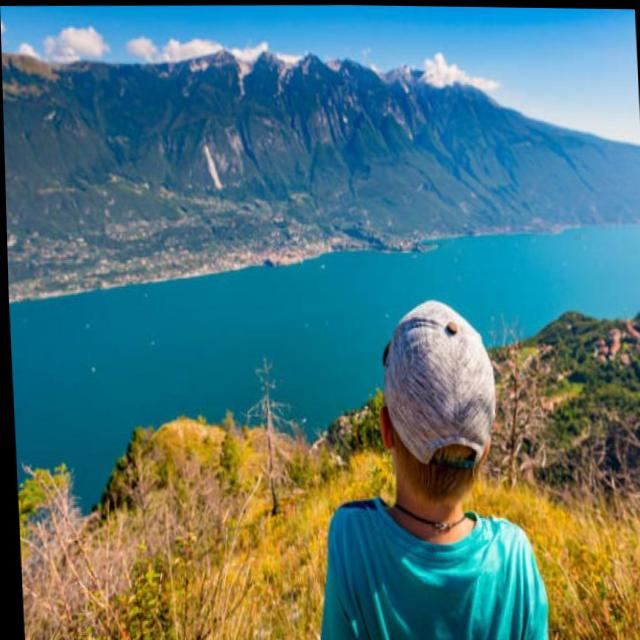no helmet: (365, 284, 502, 539)
